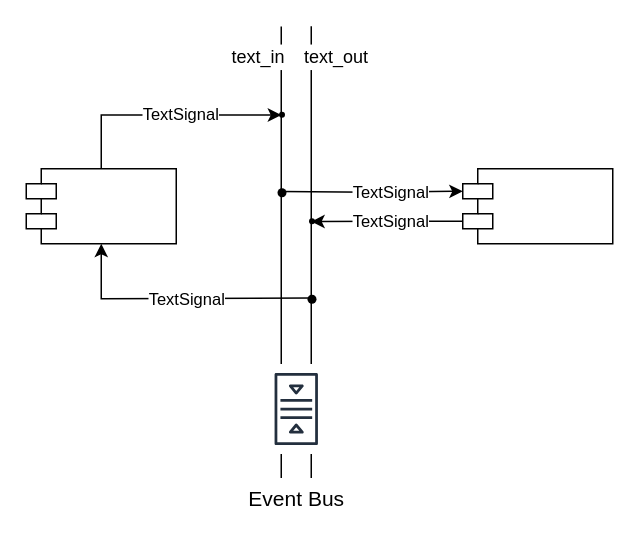
Some shapes in this 639 by 548 pixel diagram are drawn without their labels. The shapes that lost their labels are listed below. From the top down, each one's centre as x and y in pixels, then its label:
At (100,205): "Chat UI".
At (537,205): "HelloWorld Service".
